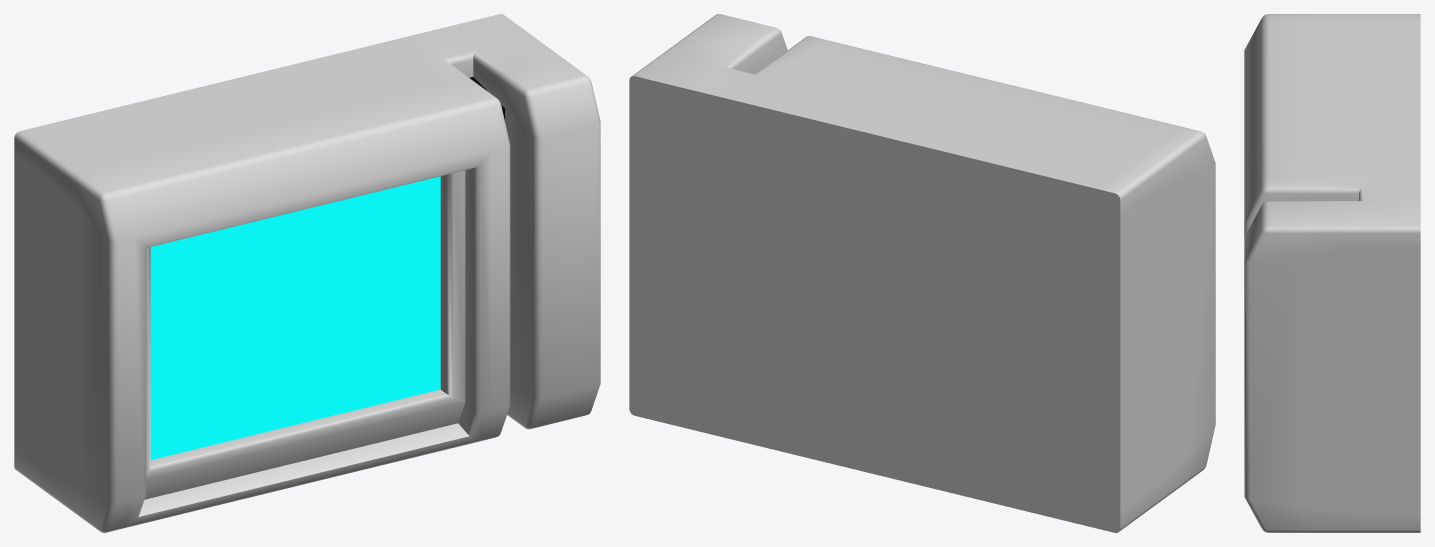
Rendered from card reader.fbx.
The picture shows the model from 3 angles, left to right: view 1: azimuth 30°, elevation 25°; view 2: azimuth 150°, elevation 25°; view 3: azimuth 270°, elevation 25°; orthographic projection. The views are drawn at different scales.
Visible parts, largest first — view 1: Cube; view 2: Cube; view 3: Cube.
Part boxes in pixels (bbox=[...]): Cube: bbox=[14, 14, 600, 532]; Cube: bbox=[629, 14, 1215, 532]; Cube: bbox=[1244, 14, 1420, 532].
Bounding box in the file's own units: 303 × 200 × 104.
